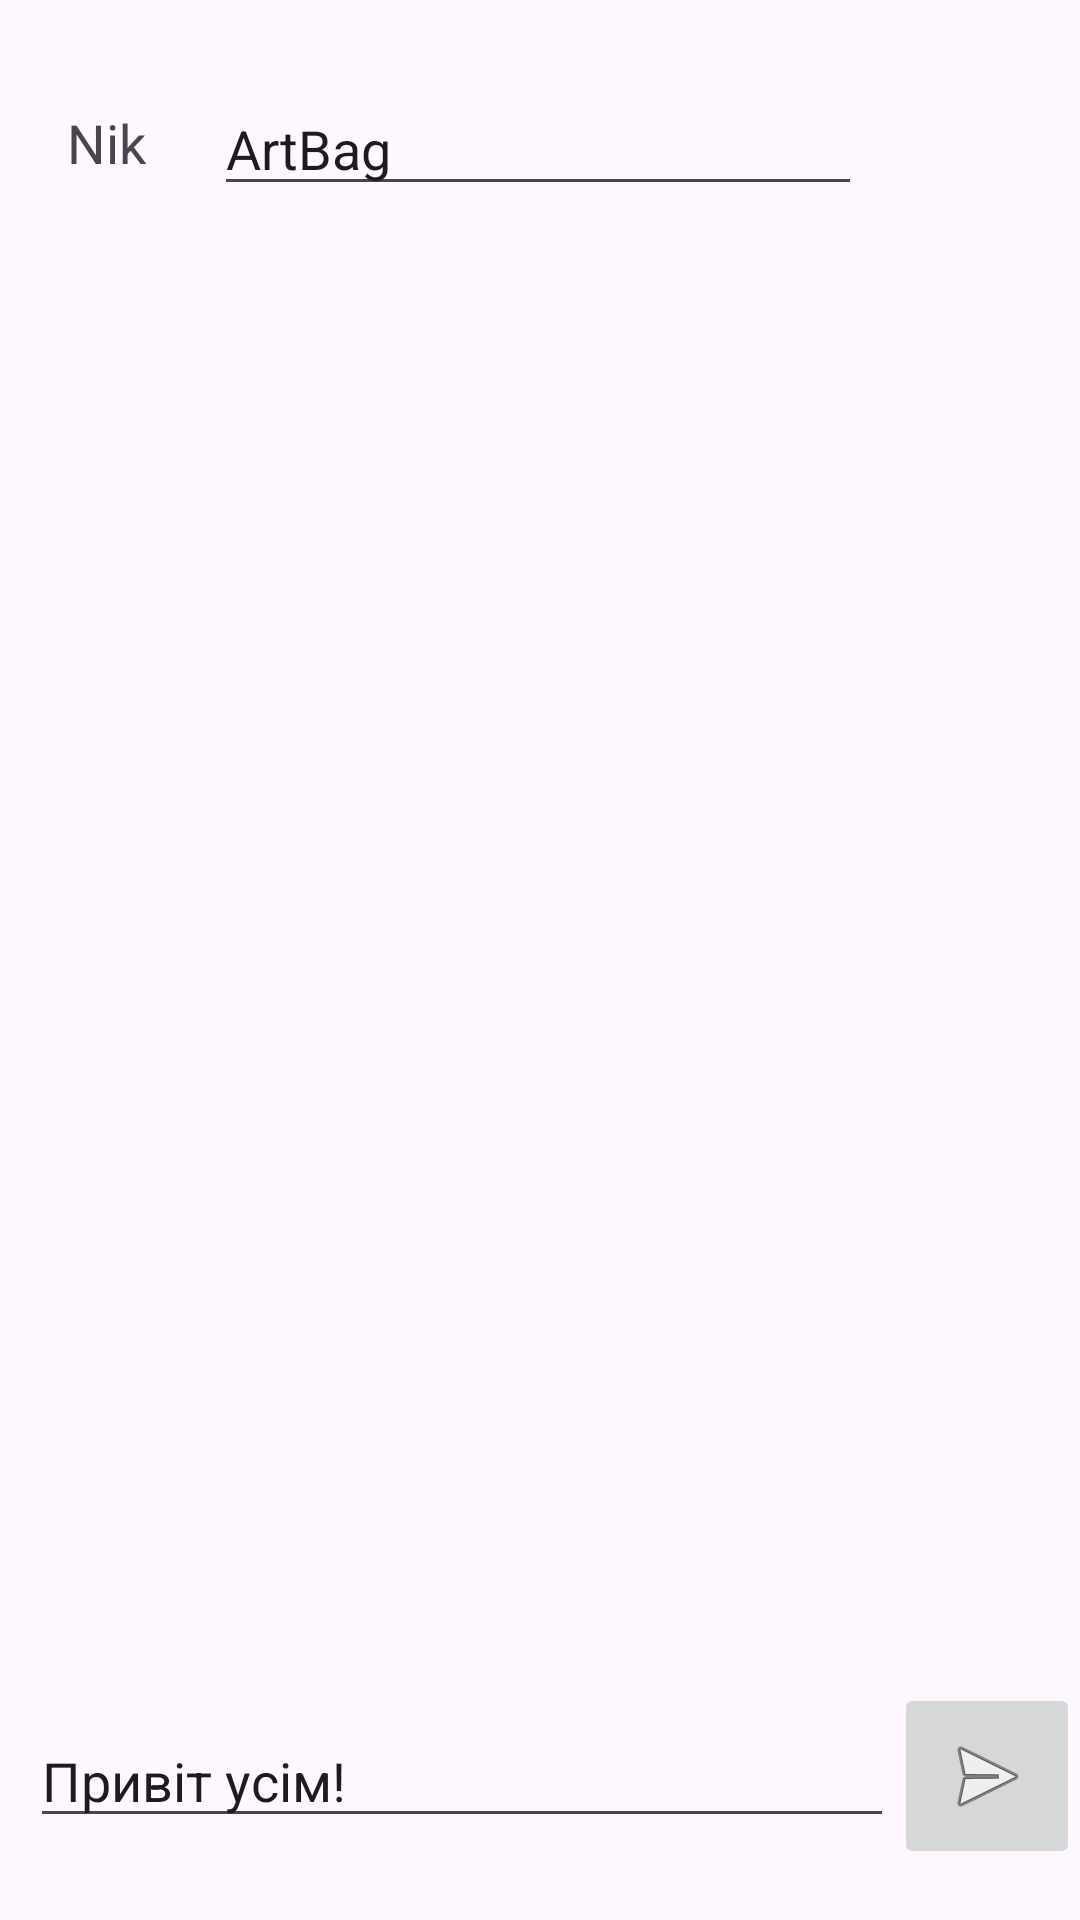

Where to tap for icons on this 1080w x 1920h app screen, as point (x, y):
send: point (987, 1776)
